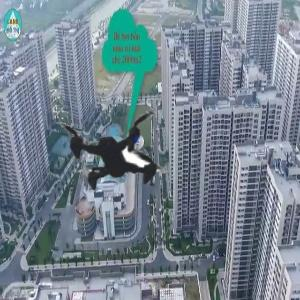drone: (10, 62, 214, 266)
